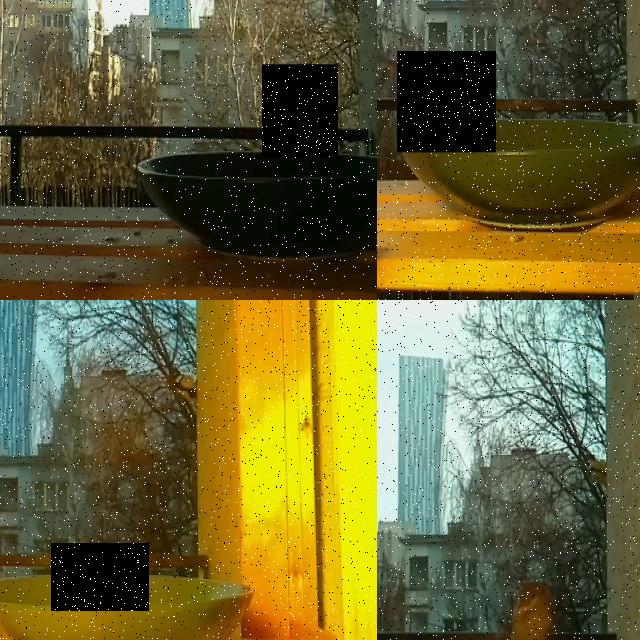Modraszka: (262, 64, 338, 158), (51, 543, 149, 611)
Wrobel: (397, 51, 496, 152), (501, 576, 565, 640)
